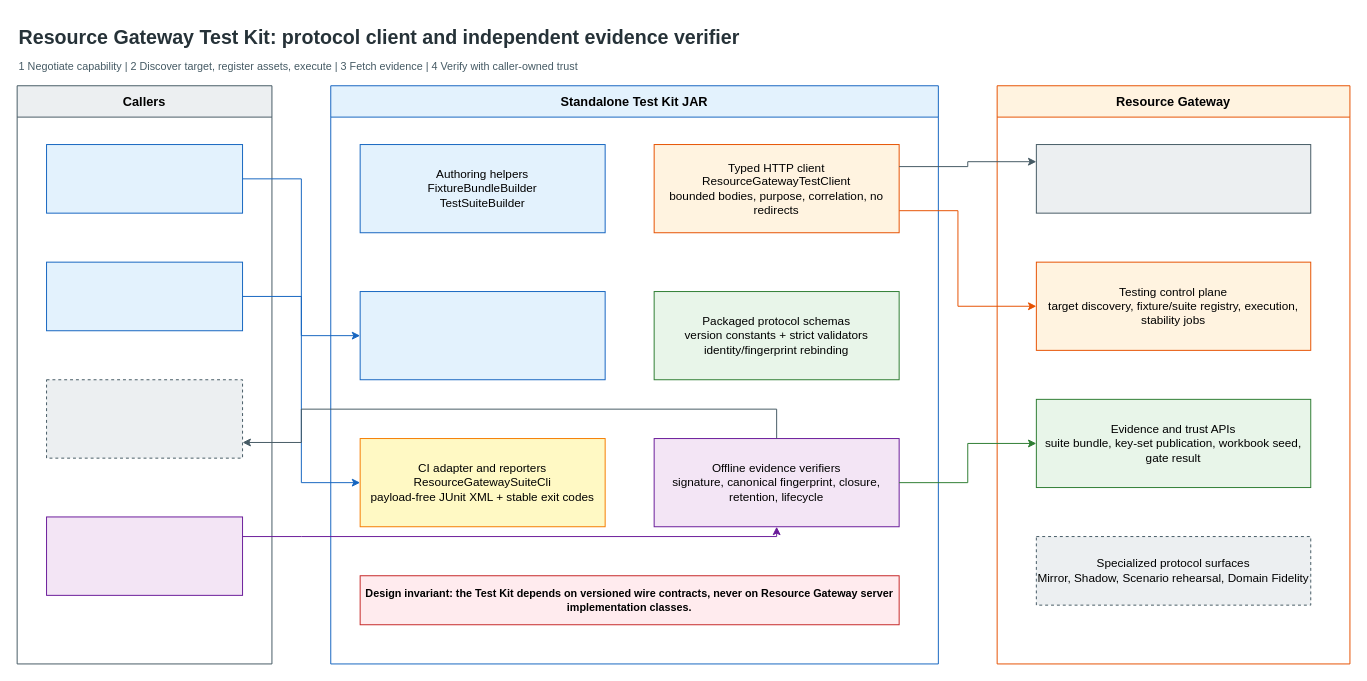
This 1367x681 diagram has some shape labels left out. Here are the shapes that lost their labels. From the top down, the centre of each, then its label:
At [144,178]: "JUnit / integration tests Typed assertions".
At [1173,178]: "Capability probe protocol versions, endpoints, feature flags".
At [144,296]: "CI pipeline CLI + JUnit XML gate".
At [482,335]: "Typed projections and assertions TestRun / TestSuiteRun JUnit assertion adapters".
At [144,418]: "ANEKE / governance consumer Workbook and evidence ingestion".
At [144,555]: "Caller-owned trust policy Pinned key-set / external authority".
